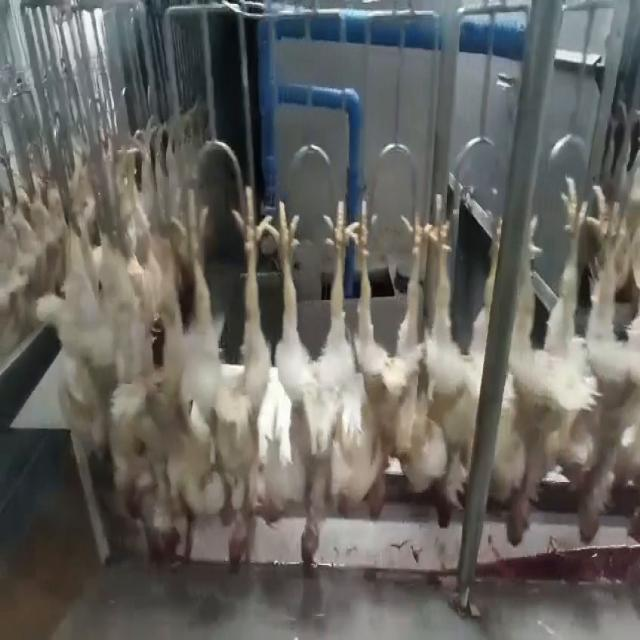chicken: (402, 204, 500, 532), (502, 174, 585, 552), (271, 202, 352, 574), (130, 173, 196, 579), (198, 175, 265, 574), (354, 204, 431, 525), (574, 172, 636, 552), (68, 187, 128, 521)
